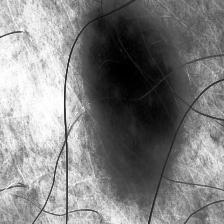Benign Marking or Mole: (86, 8, 182, 191)
